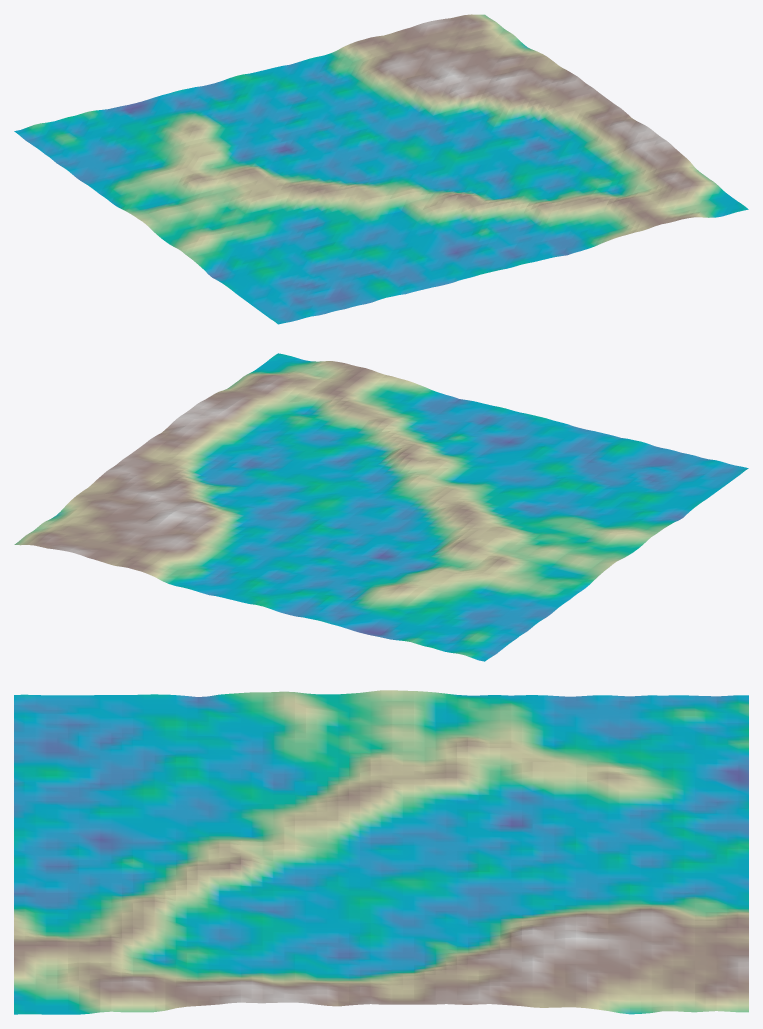
Rendered from 000199_terrain_only.glb.
3 renders of one model, top to bottom at view 1: azimuth 30°, elevation 25°; view 2: azimuth 150°, elevation 25°; view 3: azimuth 270°, elevation 25°, orthographic. The views are drawn at different scales.
Parts seen in each view (by area): view 1: terrain; view 2: terrain; view 3: terrain.
Part boxes in pixels (bbox=[...]): terrain: bbox=[14, 14, 748, 324]; terrain: bbox=[14, 353, 748, 661]; terrain: bbox=[14, 690, 748, 1014].
Bounding box in the file's own units: 0.0189 × 0.000443 × 0.0183.
